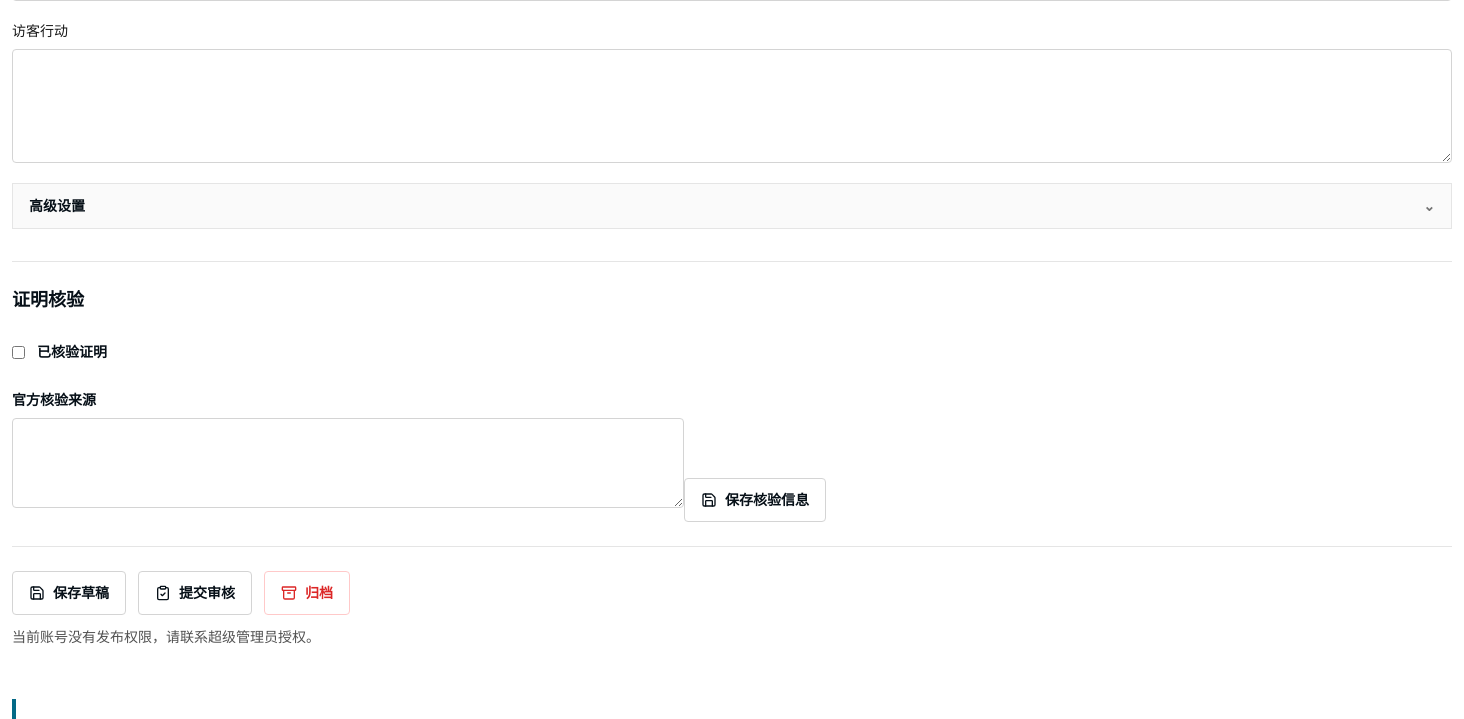
ContentEditor › updates official proof verification for writers
(page scrolled)
Click the checkbox labelled "已核验证明" at (18, 352), box [12,346,25,358]
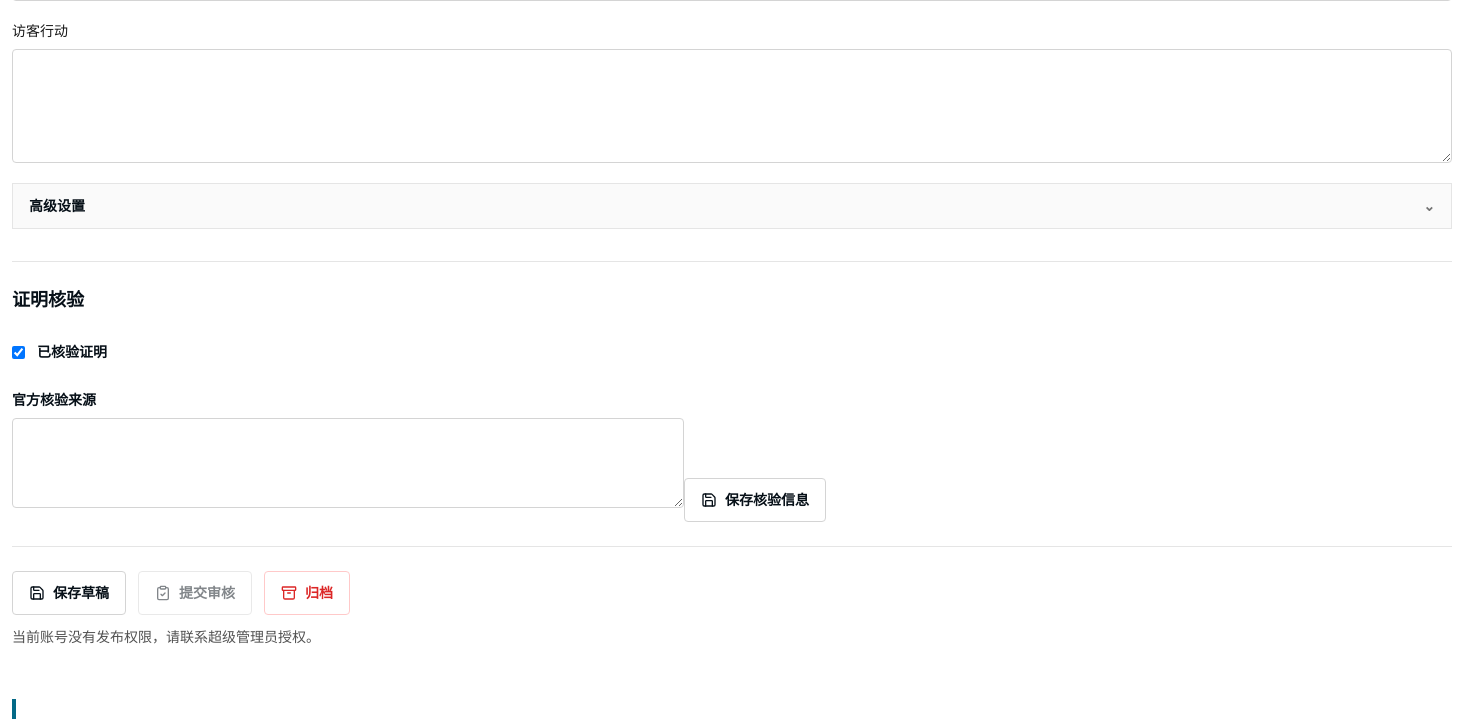
Type "官方登记记录" into the text box labelled "官方核验来源" at (348, 463), box [12,418,684,508]
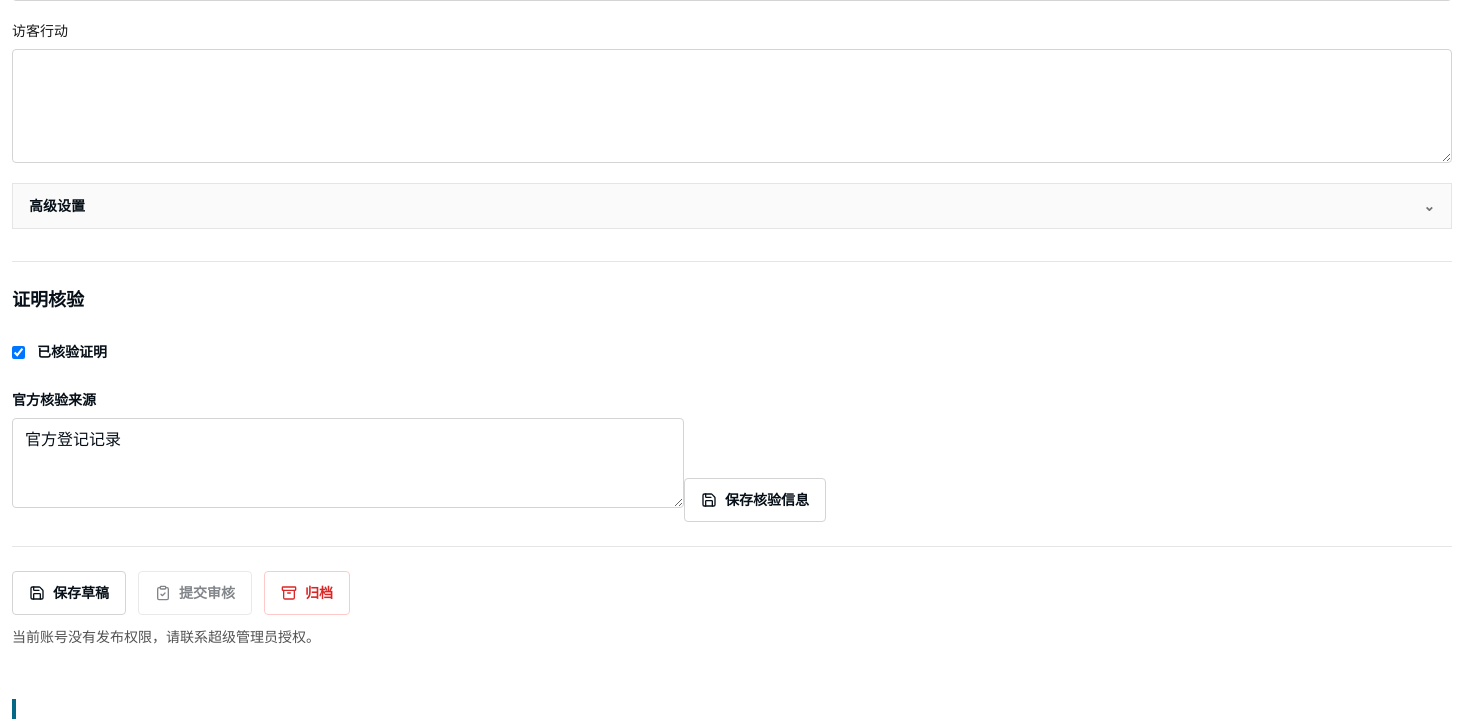
Click the button "保存核验信息" at (755, 500), box [684,478,826,522]
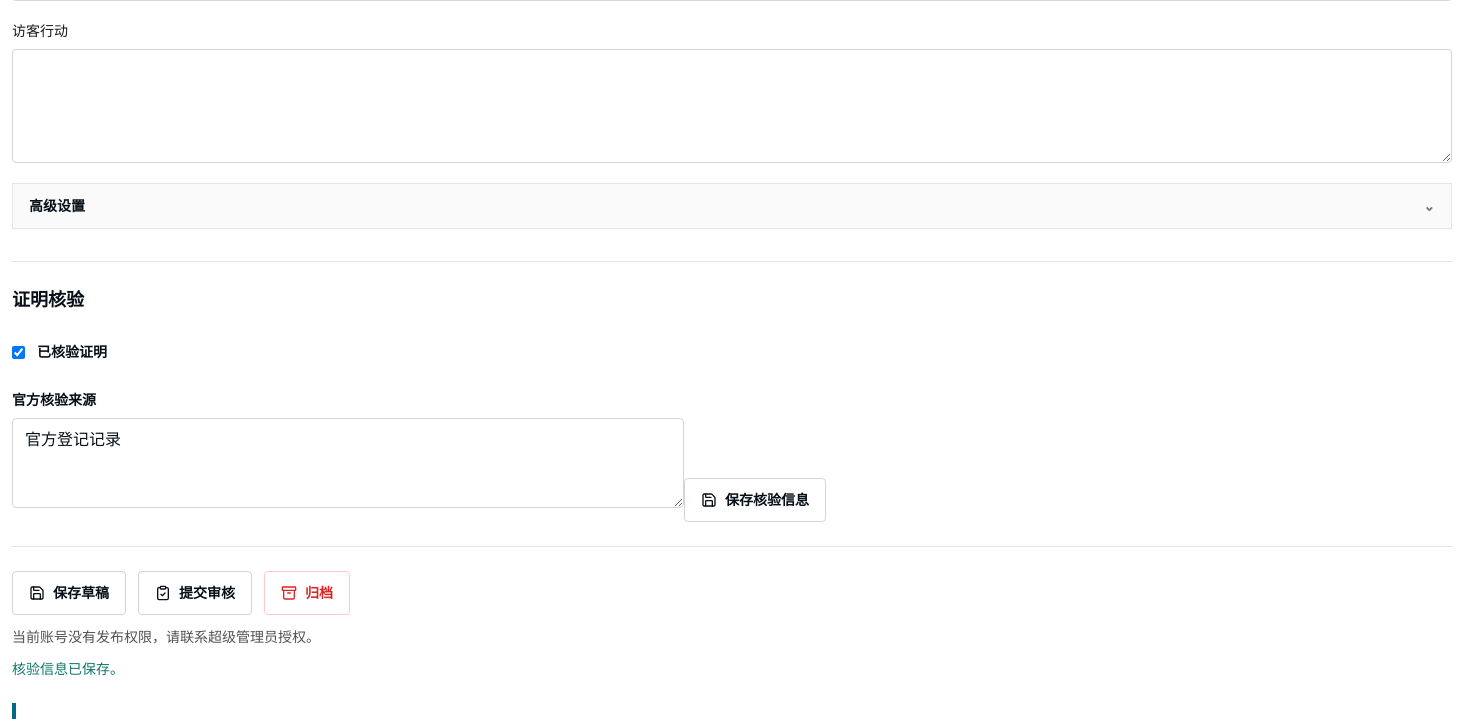
expect the text "核验信息已保存。" is shown: met, box [12,659,124,678]
